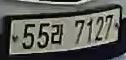1: (85, 17, 94, 43)
2: (95, 16, 104, 42)
5: (21, 23, 37, 49), (36, 22, 50, 50)
7: (72, 18, 85, 45), (104, 14, 114, 40)
라: (50, 22, 66, 47)
